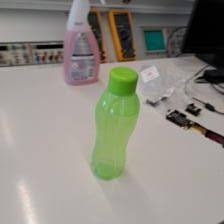bottle: (88, 64, 141, 180)
